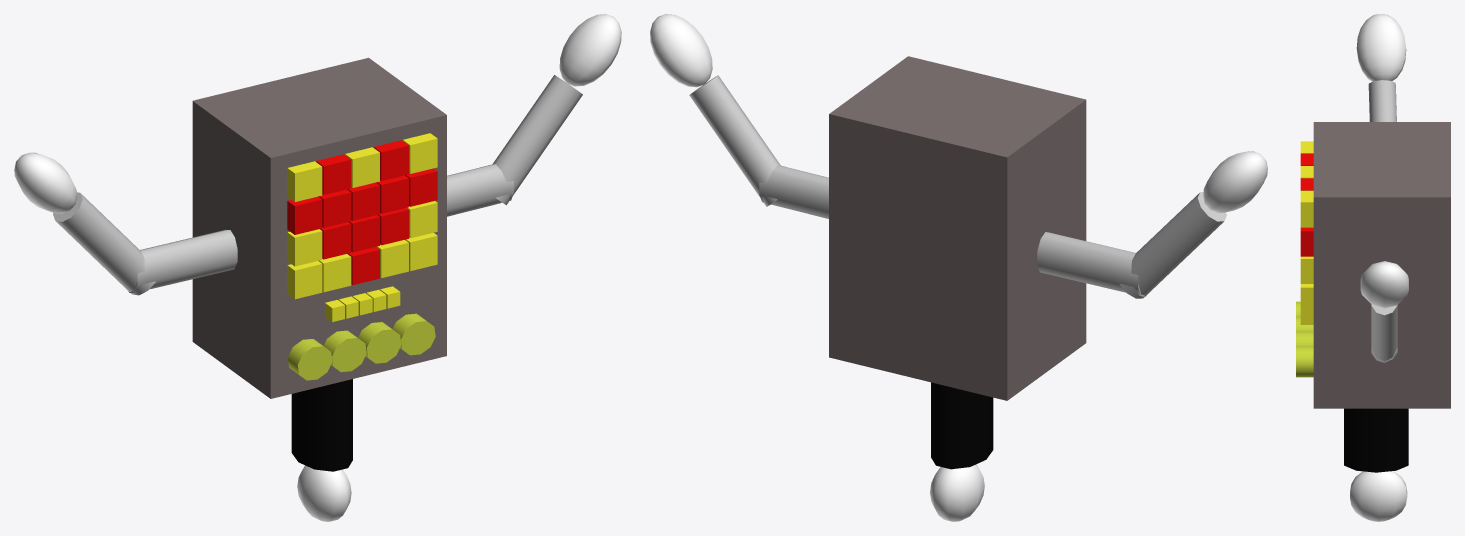
The model's file is meta.obj.
3 views of the same model, side by side, from view 1: azimuth 30°, elevation 25°; view 2: azimuth 150°, elevation 25°; view 3: azimuth 270°, elevation 25° (orthographic). The views are drawn at different scales.
Parts seen in each view (by area): view 1: 037_Box, 007_Cylinder_4_-_baked, 000_Cylinder_6, 001_Cylinder_7, 002_Cylinder_8, 005_Sphere_1, 003_Sphere_2, 004_Cylinder_5, 006_Sphere, 010_Cylinder_1, 008_Cylinder_2, 009_Cylinder_3 (+21 smaller); view 2: 037_Box, 007_Cylinder_4_-_baked, 000_Cylinder_6, 002_Cylinder_8, 001_Cylinder_7, 005_Sphere_1, 003_Sphere_2, 004_Cylinder_5, 006_Sphere; view 3: 037_Box, 007_Cylinder_4_-_baked, 003_Sphere_2, 006_Sphere, 005_Sphere_1, 000_Cylinder_6, 002_Cylinder_8, 009_Cylinder_3, 012_Box_26, 024_Box_11_-_baked, 027_Box_25, 036_Box_20 (+1 smaller).
Part boxes in pixels (x1,y1,x2,y2): 037_Box: (192,57,446,398); 007_Cylinder_4_-_baked: (291,379,352,471); 000_Cylinder_6: (493,75,582,204); 001_Cylinder_7: (128,229,237,292); 002_Cylinder_8: (53,192,155,295); 005_Sphere_1: (559,14,621,86); 003_Sphere_2: (14,152,76,213); 004_Cylinder_5: (447,164,513,216); 006_Sphere: (297,465,351,521); 010_Cylinder_1: (287,339,332,380); 008_Cylinder_2: (358,322,401,363); 009_Cylinder_3: (392,313,435,355); 037_Box: (829,56,1086,400); 007_Cylinder_4_-_baked: (931,382,993,469); 000_Cylinder_6: (689,75,780,206); 002_Cylinder_8: (1119,192,1226,298); 001_Cylinder_7: (1037,232,1147,296); 005_Sphere_1: (650,14,712,87); 003_Sphere_2: (1203,151,1267,212); 004_Cylinder_5: (759,165,828,218); 006_Sphere: (930,464,984,521); 037_Box: (1313,122,1450,408); 007_Cylinder_4_-_baked: (1344,408,1408,472); 003_Sphere_2: (1356,14,1406,81); 006_Sphere: (1350,471,1407,521); 005_Sphere_1: (1360,261,1408,308); 000_Cylinder_6: (1371,304,1397,362); 002_Cylinder_8: (1368,80,1396,121); 009_Cylinder_3: (1296,346,1313,377); 012_Box_26: (1300,190,1313,227); 024_Box_11_-_baked: (1300,227,1313,256); 027_Box_25: (1300,284,1313,312); 036_Box_20: (1300,256,1313,283).
Size of the model in its own units: 72.07 by 49.57 by 18.3.
